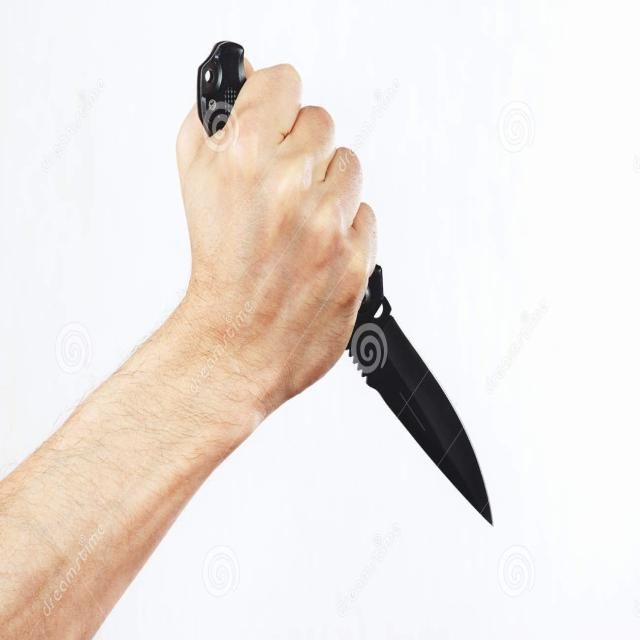knife: (367, 277, 500, 530)
